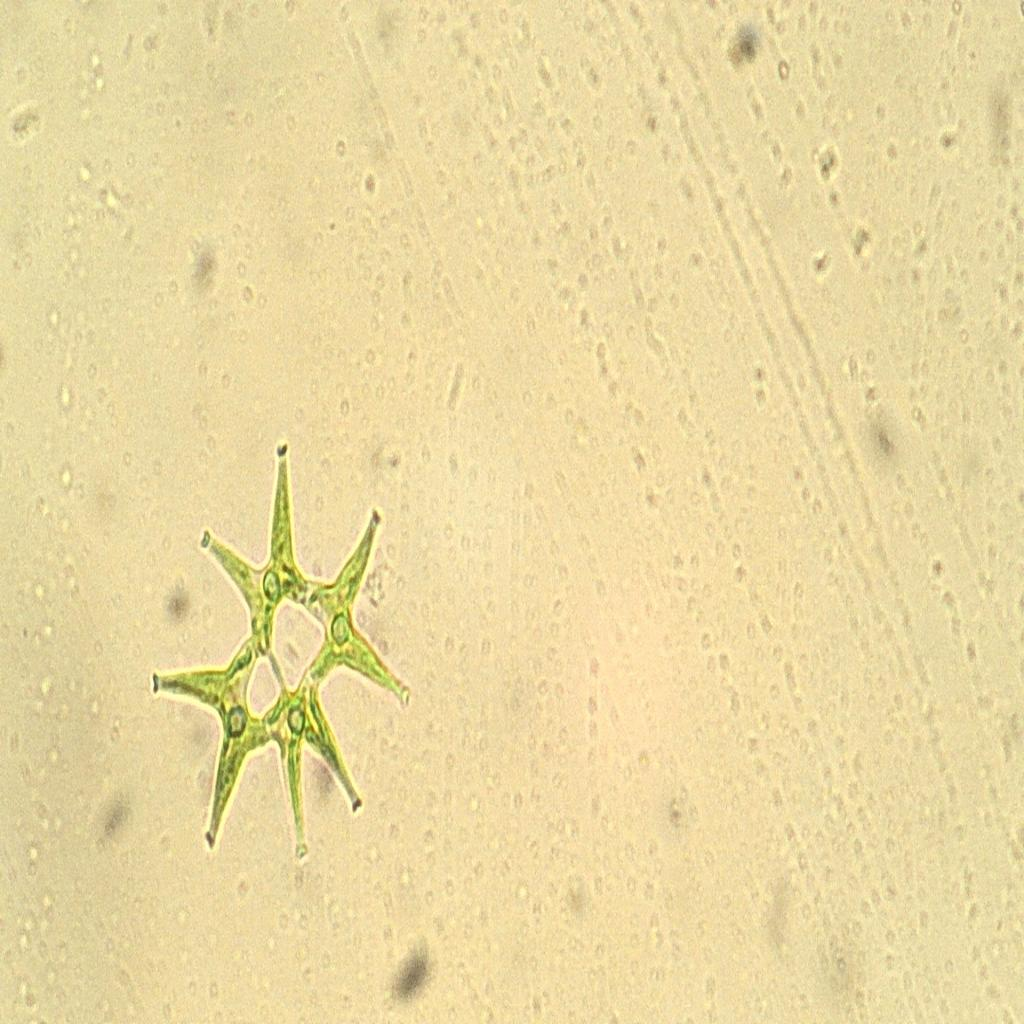Pediastrum_CF: (136, 426, 424, 891)
